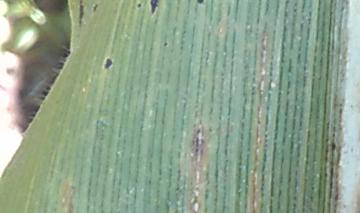tarspot: (75, 1, 86, 27), (100, 55, 115, 70), (148, 1, 160, 16), (90, 1, 99, 12), (194, 1, 208, 7), (161, 39, 170, 48), (134, 2, 143, 9)
